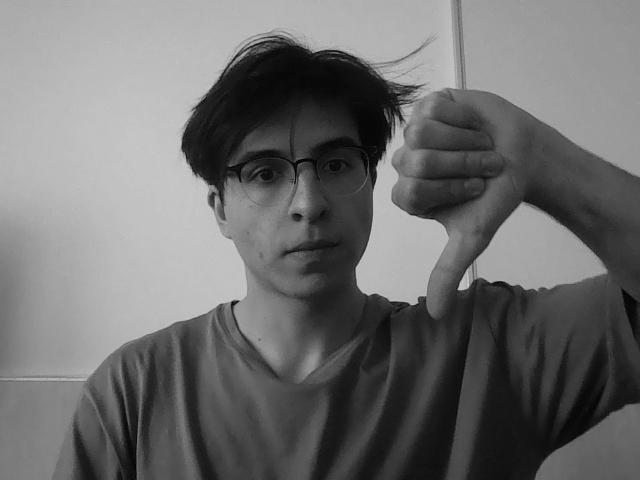bad: (397, 84, 568, 324)
